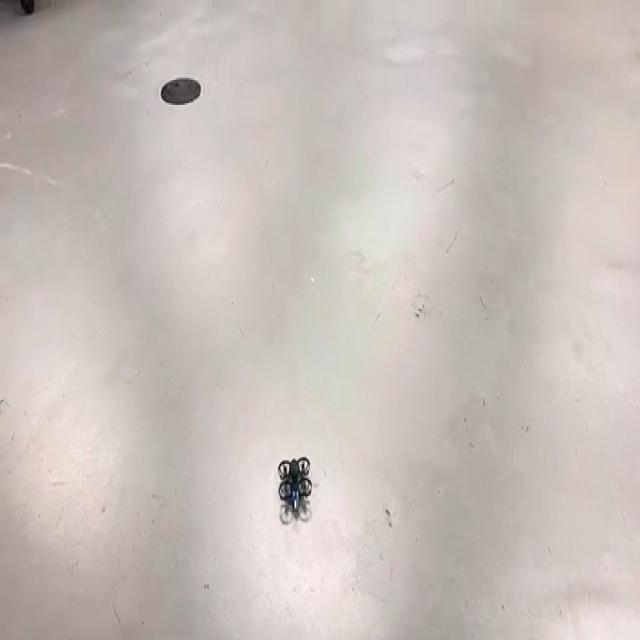drone: (270, 443, 322, 529)
